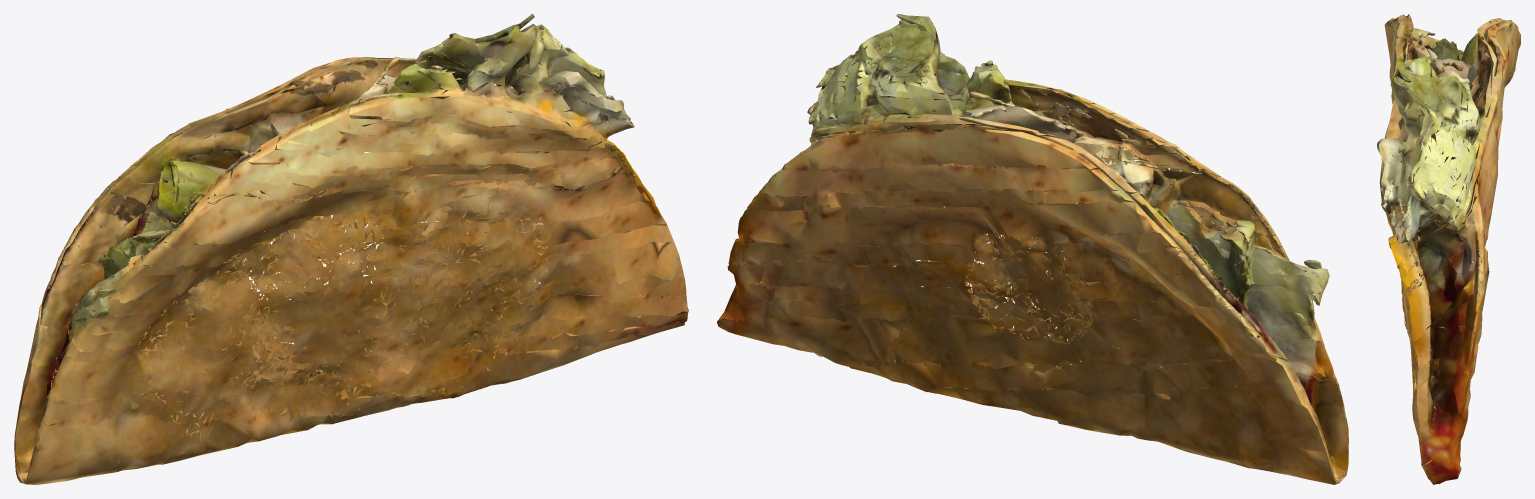
File: taco-v03.glb
3 views of the same model, side by side, from view 1: azimuth 30°, elevation 25°; view 2: azimuth 150°, elevation 25°; view 3: azimuth 270°, elevation 25° (orthographic). The views are drawn at different scales.
Parts seen in each view (by area): view 1: Object_2; view 2: Object_2; view 3: Object_2.
Part boxes in pixels (x1,y1,x2,y2): Object_2: [14, 14, 688, 484]; Object_2: [717, 14, 1348, 484]; Object_2: [1377, 14, 1520, 484].
Bounding box in the file's own units: 0.18 × 0.0985 × 0.0371.
1 material, 1 textured.
